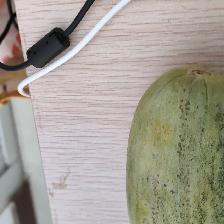gua: (142, 80, 215, 216)
